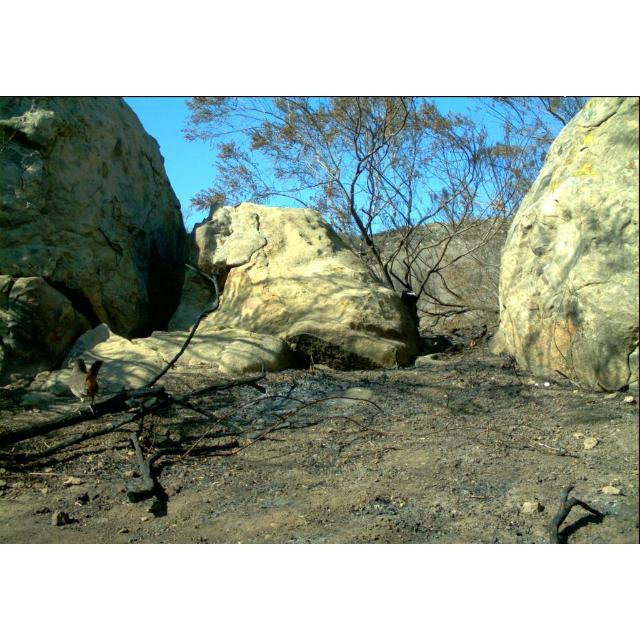animals: (66, 356, 105, 418)
